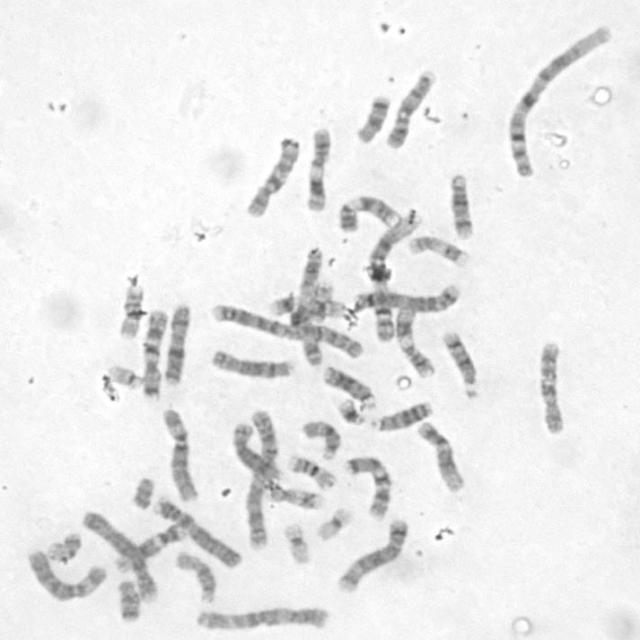A1: (504, 24, 616, 179), (365, 209, 424, 345)
A2: (210, 302, 366, 362), (246, 408, 280, 553)
A3: (294, 245, 326, 366), (196, 606, 331, 632)
B4: (80, 510, 161, 607), (152, 494, 242, 572)
B5: (337, 516, 409, 595), (351, 282, 461, 316)
C10: (244, 136, 303, 220), (536, 342, 568, 436)
C11: (394, 304, 436, 379), (303, 126, 334, 212)
C12: (111, 522, 188, 575), (416, 420, 466, 495)
C6: (25, 549, 109, 603), (162, 407, 201, 502)
C7: (345, 454, 394, 523), (142, 310, 170, 400)
C8: (230, 422, 282, 485), (208, 348, 294, 381)
C9: (384, 68, 439, 152), (336, 194, 404, 234)
D13: (322, 365, 377, 413), (371, 400, 434, 433)
D14: (441, 330, 483, 400), (449, 172, 476, 241)
D15: (173, 551, 217, 604), (300, 418, 342, 462)
E16: (288, 454, 338, 492), (118, 284, 144, 339)
E17: (406, 234, 468, 268), (265, 483, 325, 511)
E18: (354, 95, 392, 145), (115, 580, 143, 622)
F19: (314, 506, 353, 543), (281, 522, 311, 566)
F20: (307, 283, 335, 324), (46, 532, 82, 562)
G21: (335, 396, 369, 426), (360, 263, 395, 283)
G22: (108, 363, 142, 393), (305, 297, 346, 320)
X: (162, 304, 193, 388)
Y: (130, 476, 155, 511)
